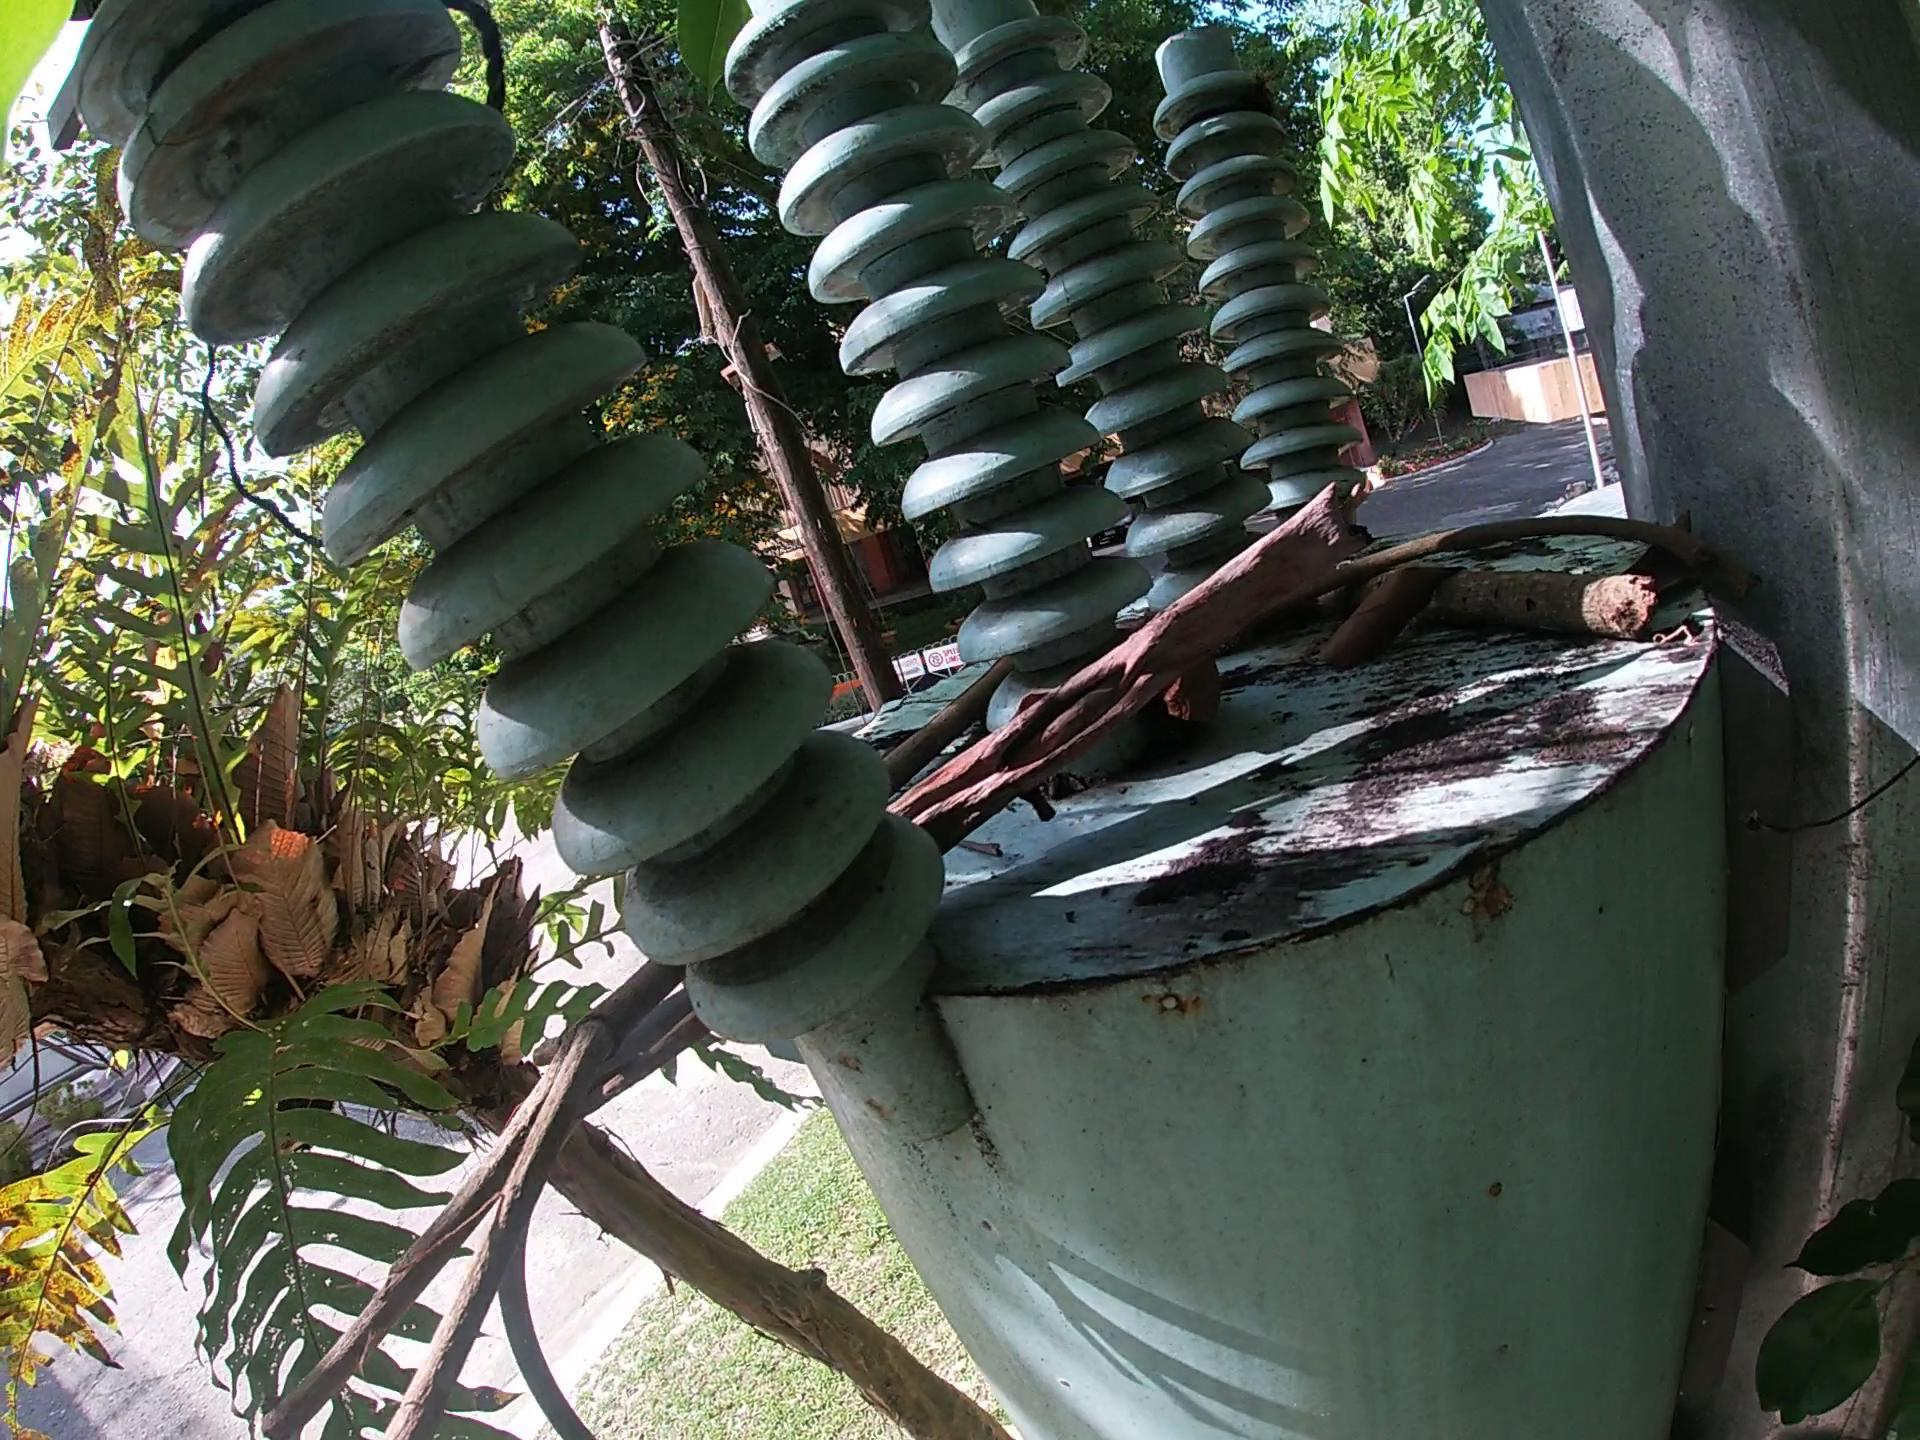leaf: (1287, 560, 1463, 690)
tree branch: (243, 948, 683, 1440), (884, 476, 1376, 852), (1318, 507, 1769, 597), (1296, 554, 1655, 644), (878, 655, 1017, 797), (576, 1016, 714, 1121)
